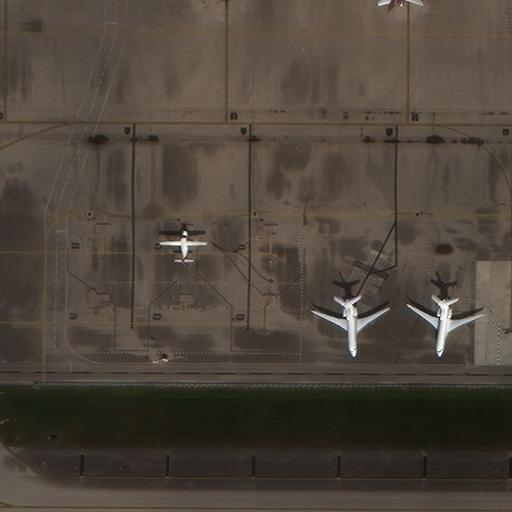Medium Civil Transport: (310, 297, 390, 357), (405, 297, 484, 357), (158, 229, 207, 264)
